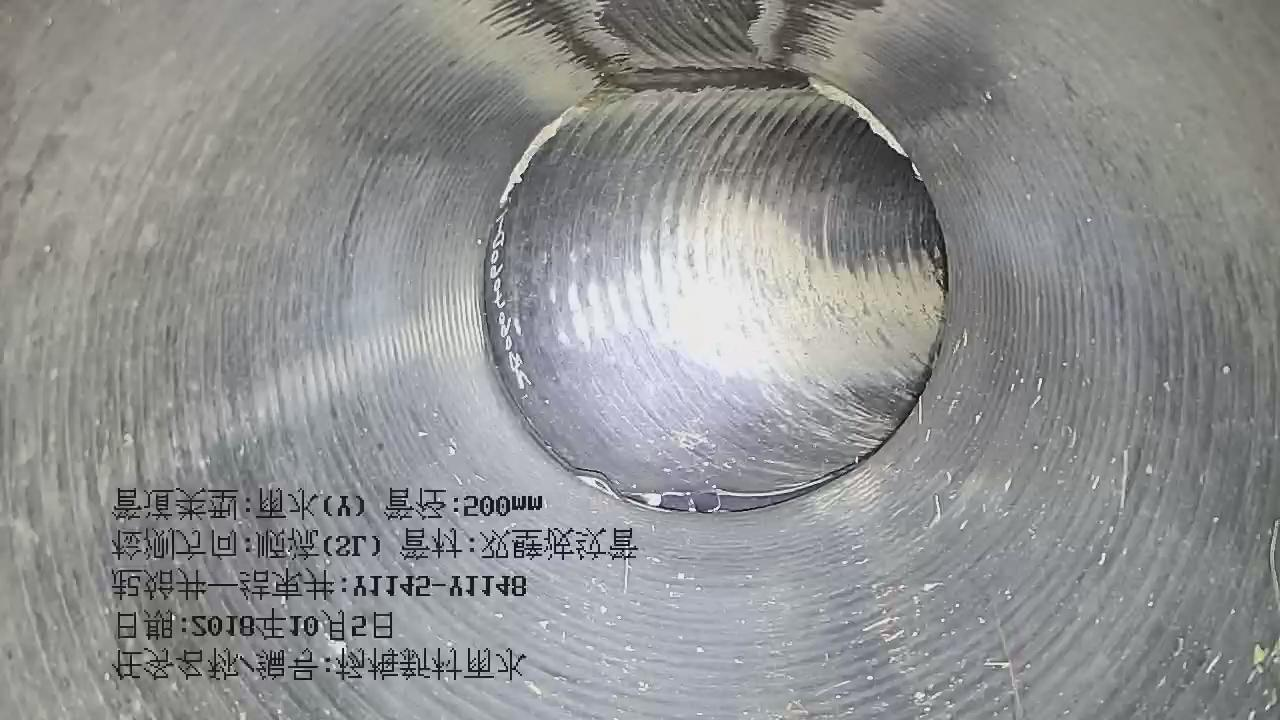JKCL: (525, 426, 903, 521)
